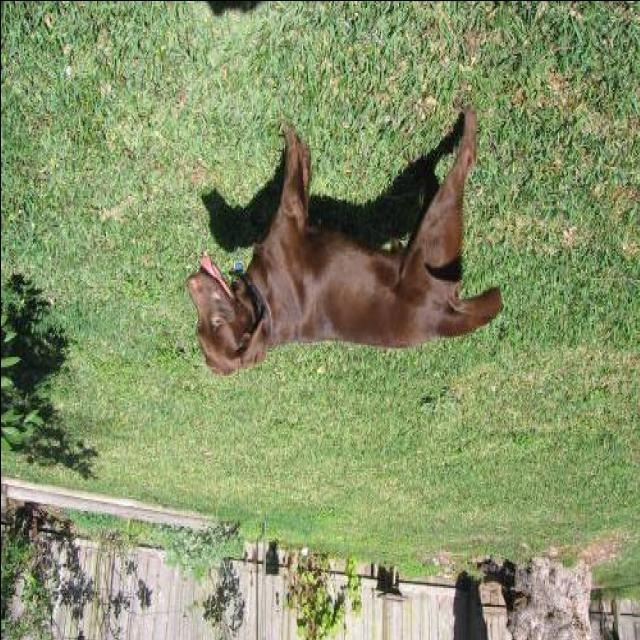dog: (169, 91, 515, 385)
